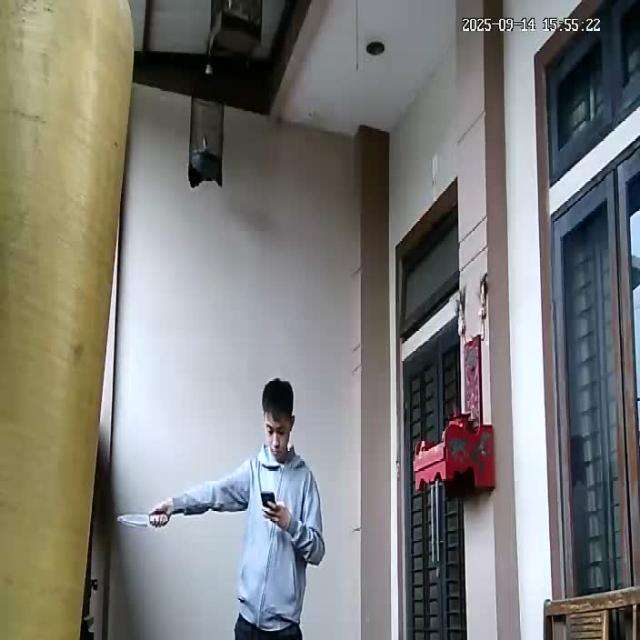senjata_tajam: (116, 511, 149, 530)
